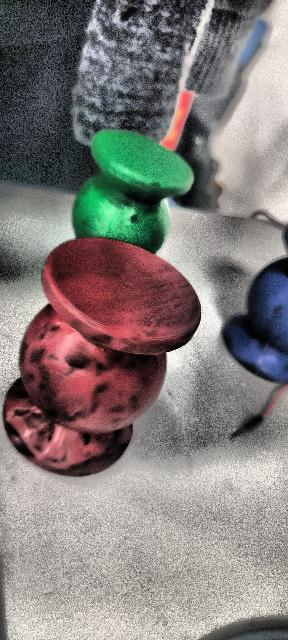blue: (218, 226, 288, 387)
green: (71, 125, 205, 258)
red: (0, 230, 206, 476)
